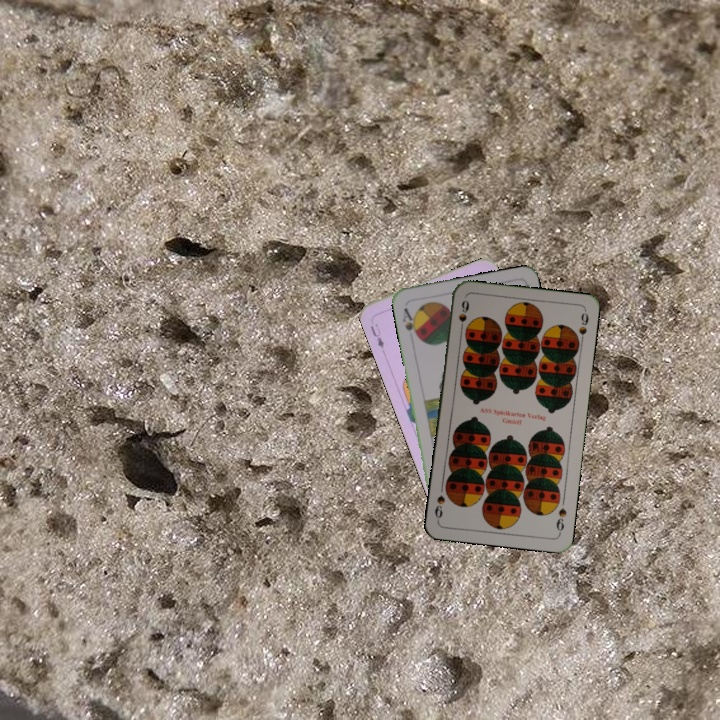EU: (366, 320, 387, 351)
S9: (455, 296, 471, 335), (552, 504, 569, 537)
SA: (398, 304, 421, 341)
